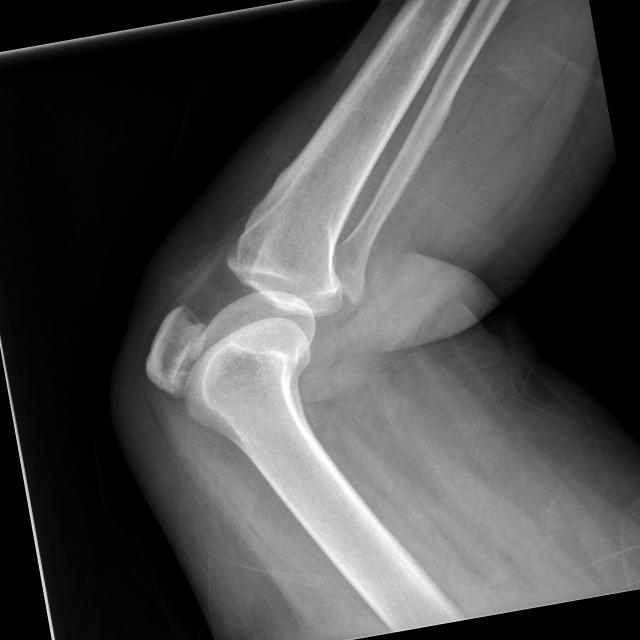Knee: (130, 250, 366, 430)
